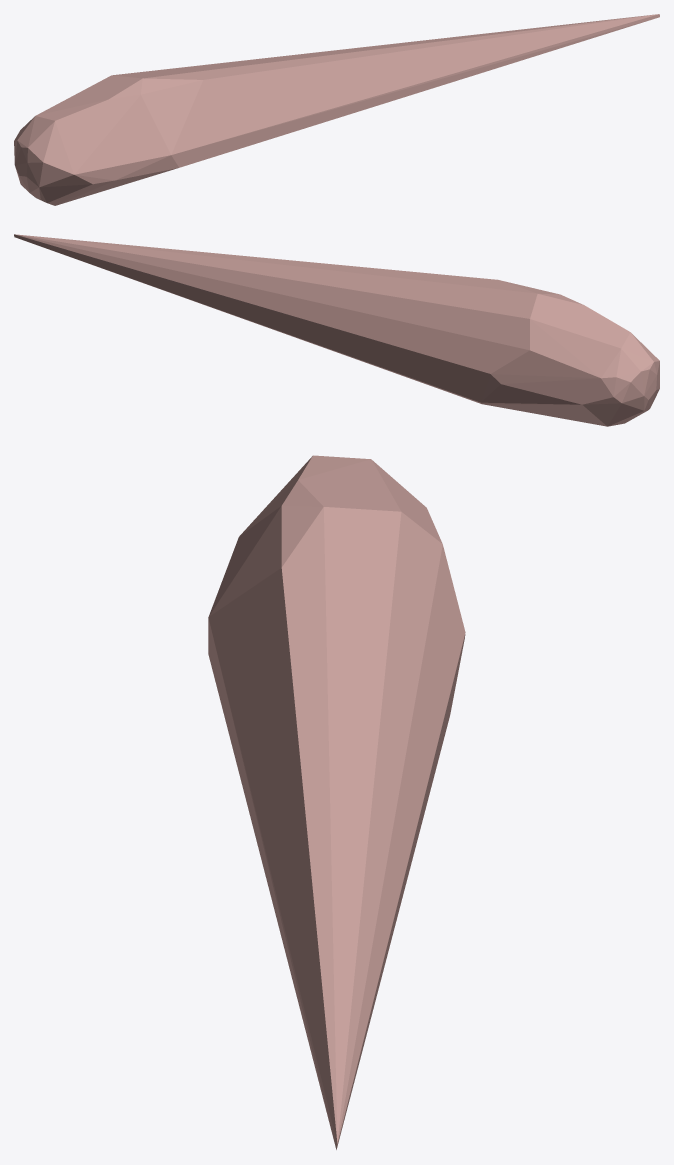
Rendered from handTool_screwdriver_slotted_4mm_a01.glb.
3 renders of one model, top to bottom at view 1: azimuth 30°, elevation 25°; view 2: azimuth 150°, elevation 25°; view 3: azimuth 270°, elevation 25°, orthographic. The views are drawn at different scales.
Visible parts, largest first — view 1: geometry_0; view 2: geometry_0; view 3: geometry_0.
Part boxes in pixels (x1,y1,x2,y2): geometry_0: (14,14,659,205); geometry_0: (14,234,659,426); geometry_0: (208,455,465,1149).
Size of the model in its own units: 0.48 by 0.0752 by 0.0838.
